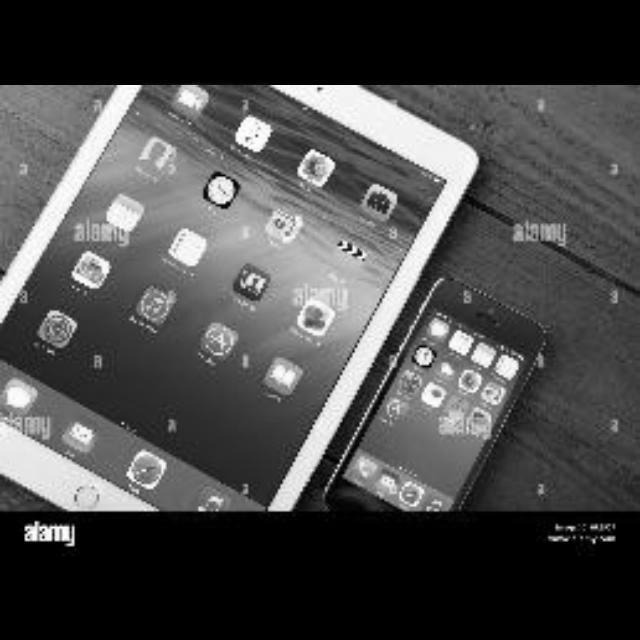fake: (315, 276, 573, 512)
